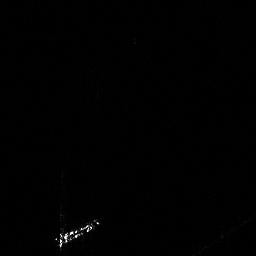ship: (53, 216, 102, 250)
